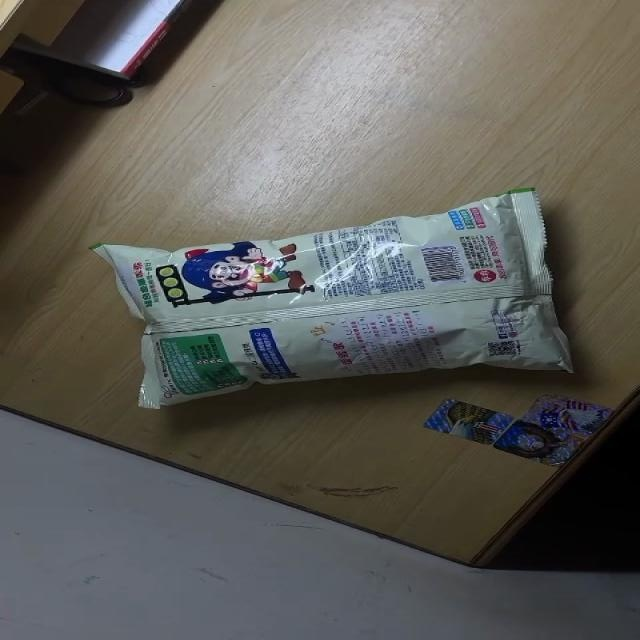Good-Luck: (94, 188, 580, 410)
